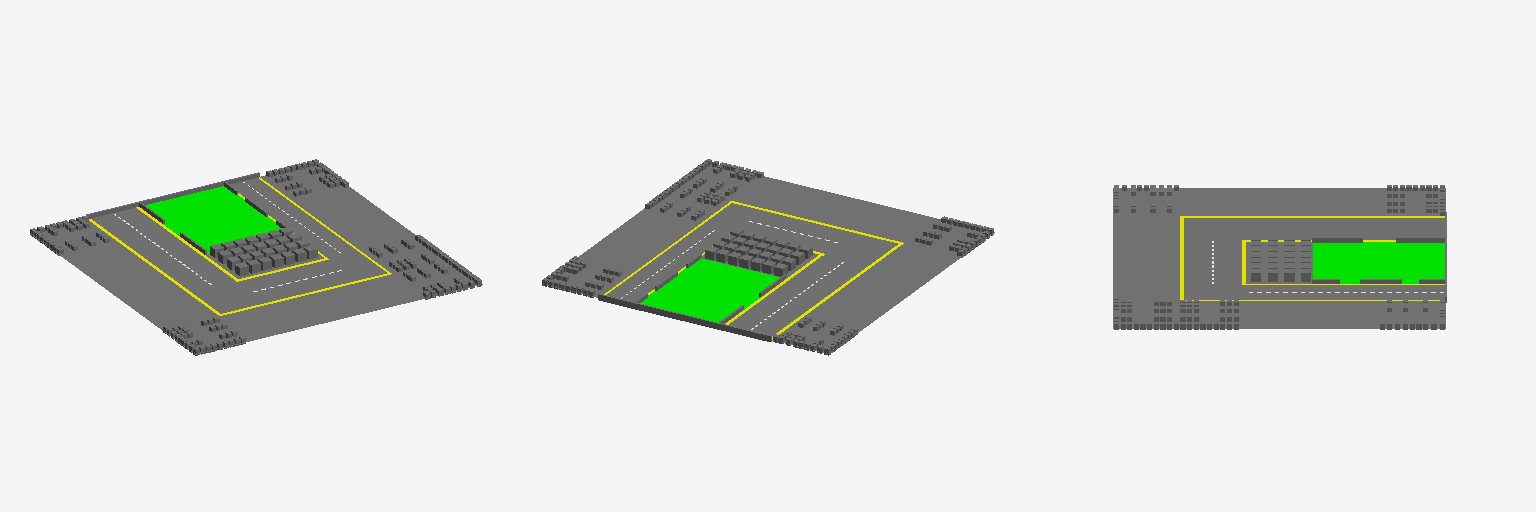
3 renders of one model, left to right at view 1: azimuth 30°, elevation 25°; view 2: azimuth 150°, elevation 25°; view 3: azimuth 270°, elevation 25°, orthographic.
Parts seen in each view (by area): view 1: Map alley_Top, alley_Left Map, Map Roads Road1 group5, Map Park Park, Map alley_Right, Map Roads group5 Road3, Map Roads group5 Road2, Map Roads group5 Road5, Map pPlane1 Edge_Top_Right, Map Roads group5 Road4, Map pPlane1 Corner_Bottom_Left, Map pPlane1 Corner_Bottom_Right (+2 smaller); view 2: Map alley_Top, alley_Left Map, Map Park Park, Map Roads Road1 group5, Map alley_Right, Map Roads group5 Road3, Map Roads group5 Road2, Map Roads group5 Road5, Map pPlane1 Edge_Top_Right, Map Roads group5 Road4, Map pPlane1 Corner_Top_Right, Map pPlane1 Corner_Top_Left (+3 smaller); view 3: Map alley_Top, alley_Left Map, Map Park Park, Map Roads Road1 group5, Map alley_Right, Map Roads group5 Road3, Map Roads group5 Road2, Map Roads group5 Road5, Map pPlane1 Corner_Top_Left, Map pPlane1 Corner_Bottom_Right, Map pPlane Center, Map pPlane1 Corner_Bottom_Left (+3 smaller).
Part boxes in pixels (left/top/right/bottom): Map alley_Top: left=220, top=274, right=425, bottom=340; alley_Left Map: left=63, top=244, right=218, bottom=329; Map Roads Road1 group5: left=89, top=207, right=237, bottom=291; Map Park Park: left=146, top=186, right=281, bottom=253; Map alley_Right: left=293, top=187, right=415, bottom=249; Map Roads group5 Road3: left=230, top=177, right=358, bottom=257; Map Roads group5 Road2: left=235, top=258, right=359, bottom=303; Map Roads group5 Road5: left=187, top=280, right=267, bottom=315; Map pPlane1 Edge_Top_Right: left=360, top=236, right=444, bottom=273; Map Roads group5 Road4: left=328, top=250, right=391, bottom=281; Map pPlane1 Corner_Bottom_Left: left=30, top=221, right=119, bottom=256; Map pPlane1 Corner_Bottom_Right: left=260, top=166, right=348, bottom=200; Map alley_Top: left=732, top=177, right=936, bottom=242; alley_Left Map: left=805, top=243, right=960, bottom=329; Map Park Park: left=640, top=258, right=779, bottom=322; Map Roads Road1 group5: left=725, top=255, right=870, bottom=339; Map alley_Right: left=579, top=211, right=697, bottom=273; Map Roads group5 Road3: left=604, top=225, right=729, bottom=301; Map Roads group5 Road2: left=738, top=209, right=855, bottom=255; Map Roads group5 Road5: left=824, top=231, right=903, bottom=266; Map pPlane1 Edge_Top_Right: left=642, top=188, right=730, bottom=224; Map Roads group5 Road4: left=699, top=201, right=762, bottom=232; Map pPlane1 Corner_Top_Right: left=680, top=164, right=764, bottom=200; Map pPlane1 Corner_Top_Left: left=905, top=219, right=994, bottom=256; Map alley_Top: left=1113, top=216, right=1179, bottom=300; alley_Left Map: left=1180, top=188, right=1378, bottom=215; Map Park Park: left=1313, top=242, right=1444, bottom=283; Map Roads Road1 group5: left=1246, top=216, right=1444, bottom=241; Map alley_Right: left=1246, top=301, right=1378, bottom=328; Map Roads group5 Road3: left=1246, top=284, right=1444, bottom=300; Map Roads group5 Road2: left=1180, top=240, right=1245, bottom=284; Map Roads group5 Road5: left=1180, top=216, right=1245, bottom=239; Map pPlane1 Corner_Top_Left: left=1113, top=188, right=1179, bottom=215; Map pPlane1 Corner_Bottom_Right: left=1379, top=301, right=1445, bottom=328; Map pPlane Center: left=1246, top=242, right=1312, bottom=283; Map pPlane1 Corner_Bottom_Left: left=1379, top=188, right=1445, bottom=215.
Size of the model in its own units: 500 by 19.62 by 502.
4 materials, 2 textured.